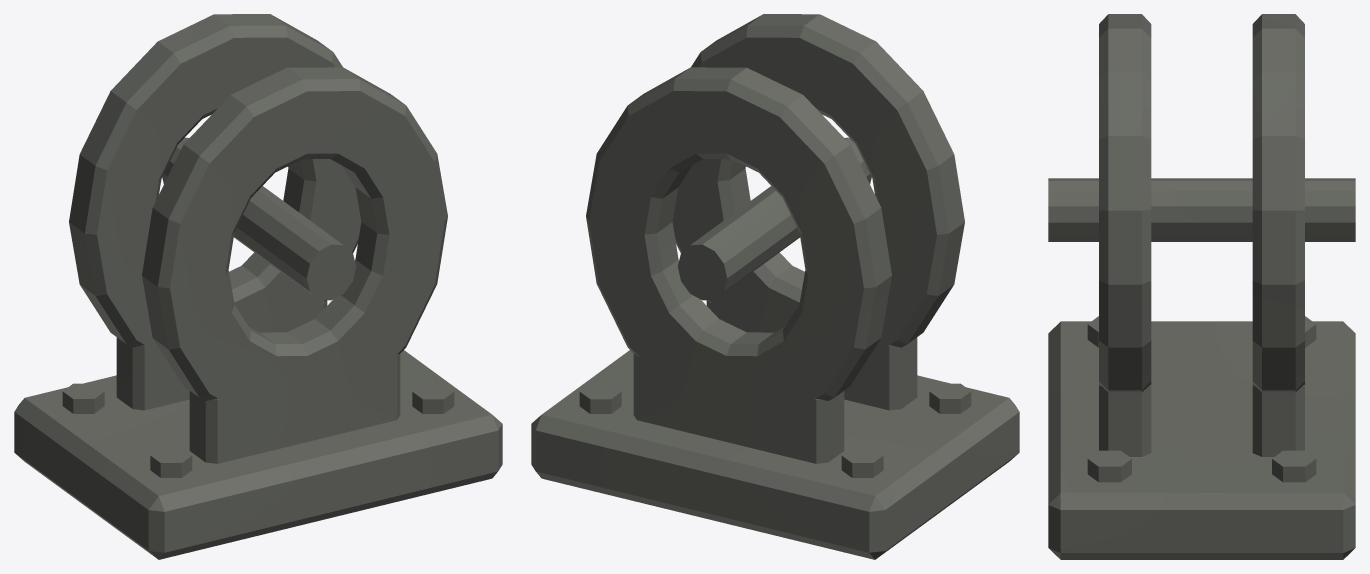
File: WarrensC_CCS30_ChainEndAnchor_Mars_SM.fbx
3 views of the same model, side by side, from view 1: azimuth 30°, elevation 25°; view 2: azimuth 150°, elevation 25°; view 3: azimuth 270°, elevation 25° (orthographic). The views are drawn at different scales.
Visible parts, largest first — view 1: WarrensC_CCS30_ChainEndAnchor_Mars_SM.001; view 2: WarrensC_CCS30_ChainEndAnchor_Mars_SM.001; view 3: WarrensC_CCS30_ChainEndAnchor_Mars_SM.001.
Part boxes in pixels (x1,y1,x2,y2): WarrensC_CCS30_ChainEndAnchor_Mars_SM.001: (14,14,502,559); WarrensC_CCS30_ChainEndAnchor_Mars_SM.001: (531,14,1019,559); WarrensC_CCS30_ChainEndAnchor_Mars_SM.001: (1048,14,1355,559).
Bounding box in the file's own units: 35 × 25 × 40.
